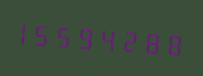eight: (143, 22, 163, 60), (164, 24, 184, 61)
five: (38, 15, 58, 52), (59, 17, 79, 54)
four: (101, 20, 121, 57)
nine: (80, 18, 100, 55)
one: (17, 14, 37, 51)
two: (122, 21, 142, 58)
